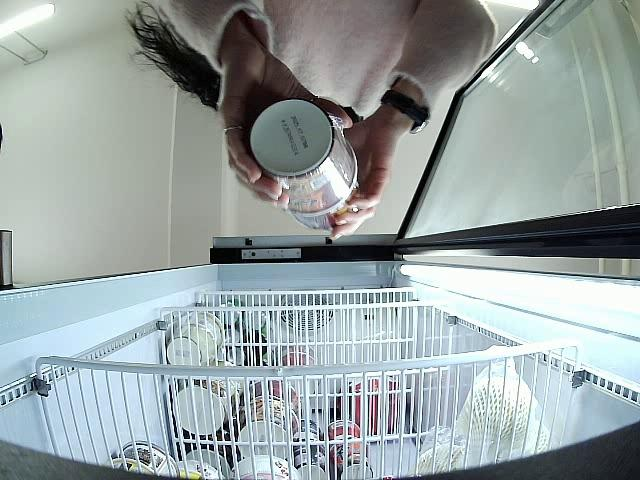00_hand: (216, 31, 351, 210), (328, 112, 406, 243)
06_nuguri_S: (247, 97, 354, 209), (290, 181, 365, 231)
